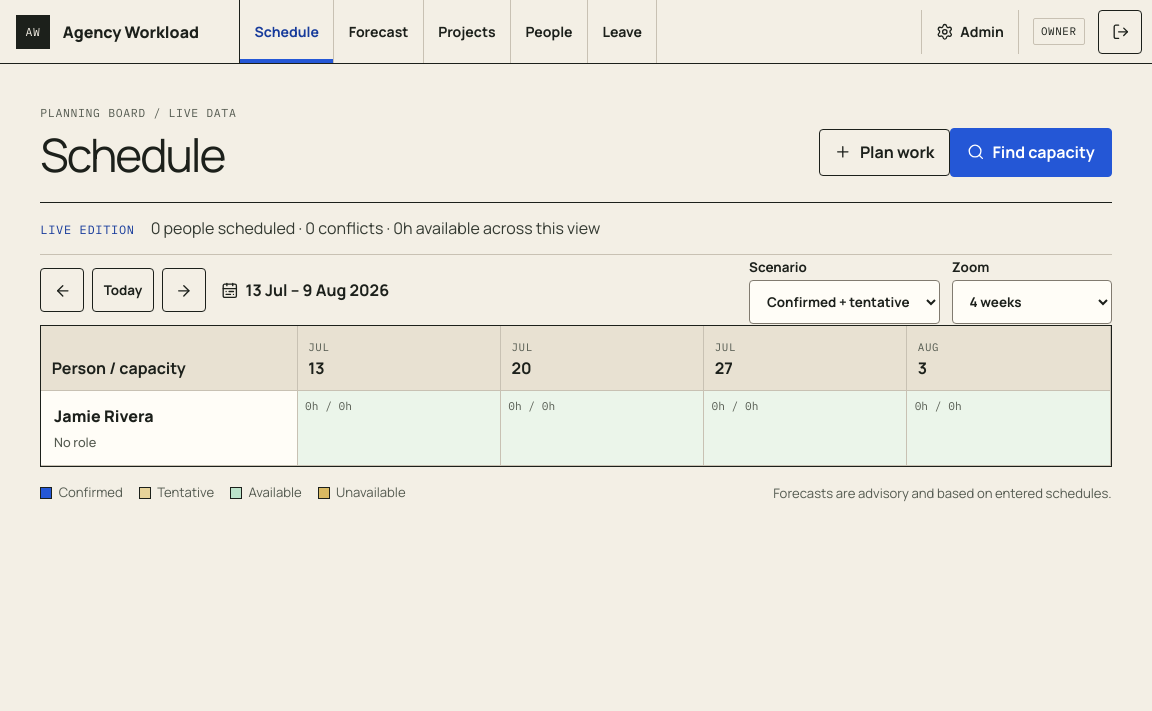
Scenario: Agency Workload app routes › removes prior Start Finder controls while a rerun is pending
This screenshot has width=1152, height=711.
Click the button "Find capacity" at (1031, 152), box [950, 128, 1112, 177]
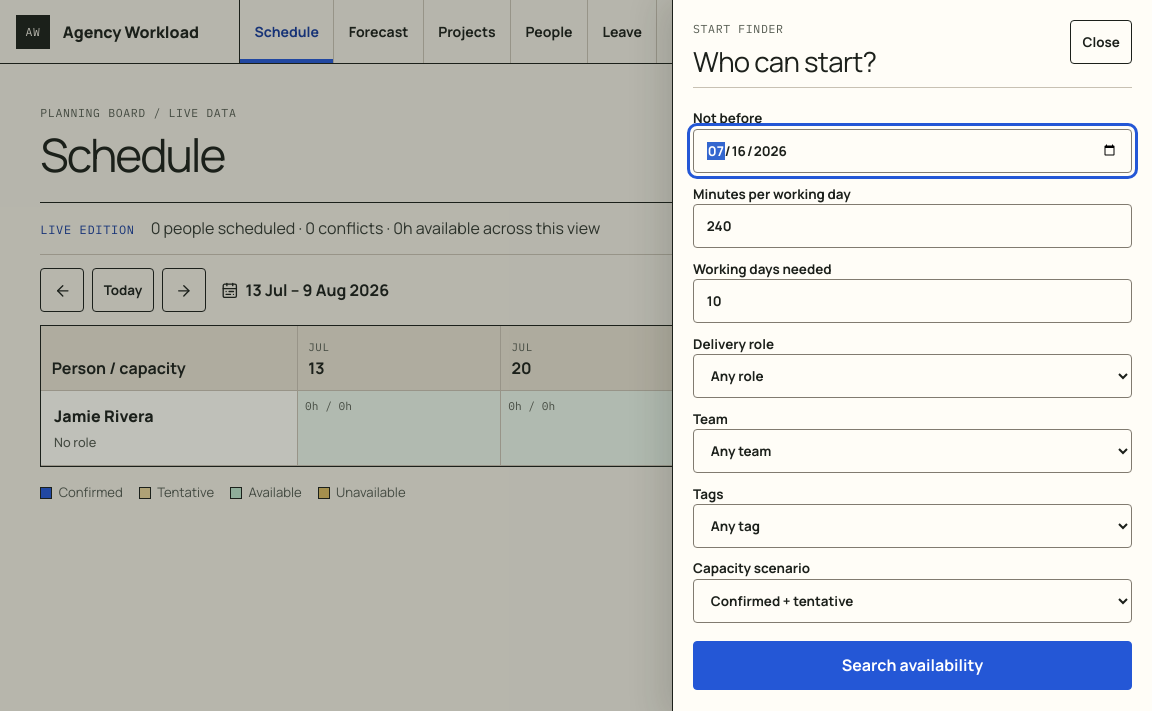
Click the button "Search availability" at (912, 665), box [693, 641, 1132, 690]
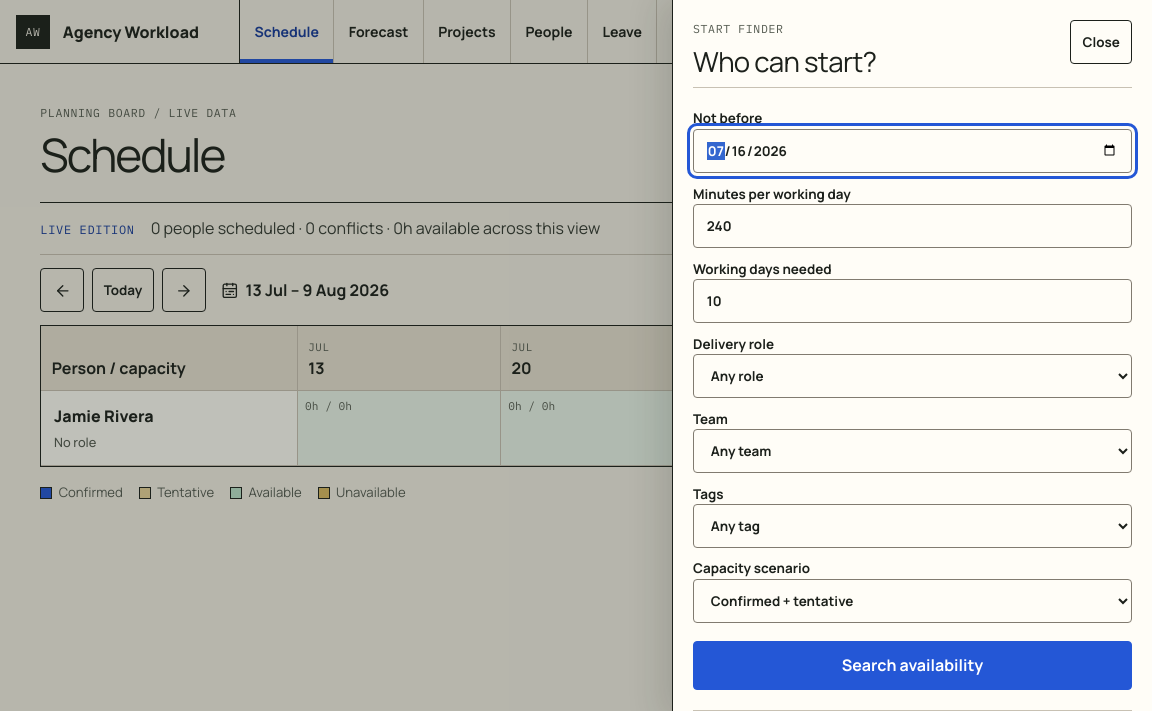
Click the button "Search availability" at (912, 665), box [693, 641, 1132, 690]
(page scrolled)
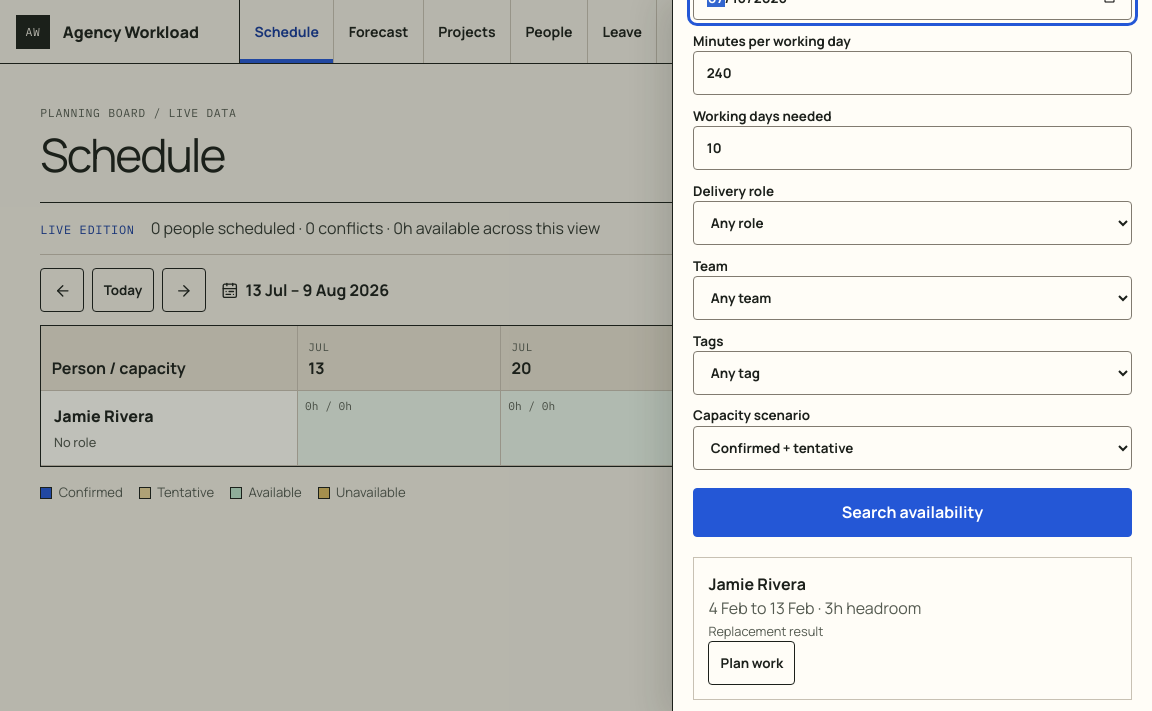
Expected: the dialog "new allocation" is not shown
Expected: the text "Replacement result" is shown, [708, 622, 823, 640]
Click the button "Plan work" at (752, 663), box [708, 641, 795, 685]
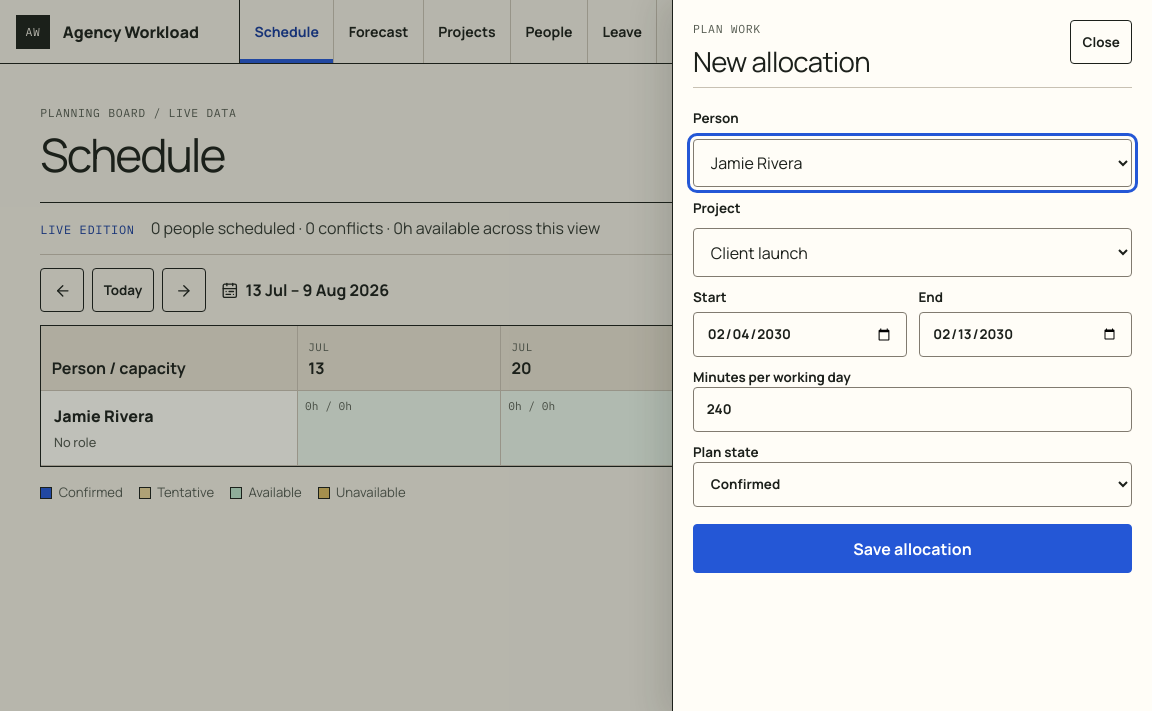
Expected: the date field labelled "Start" holds "2030-02-04", [693, 312, 906, 356]
Expected: the date field labelled "End" holds "2030-02-13", [918, 312, 1132, 356]
